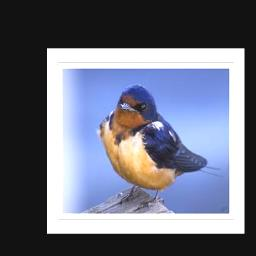Swallow: (95, 82, 224, 211)
